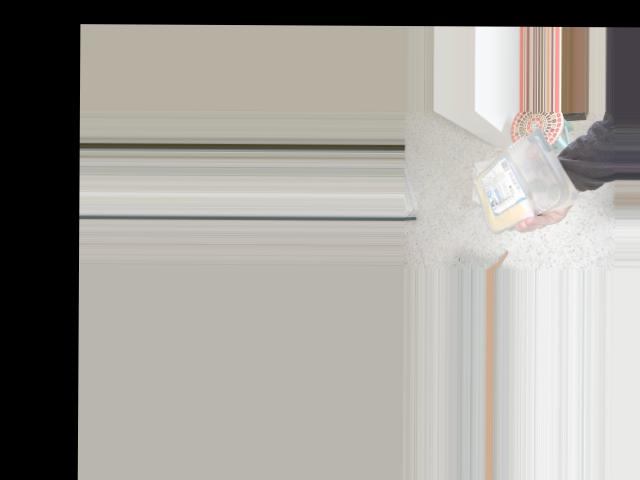cheese: (465, 127, 572, 220)
